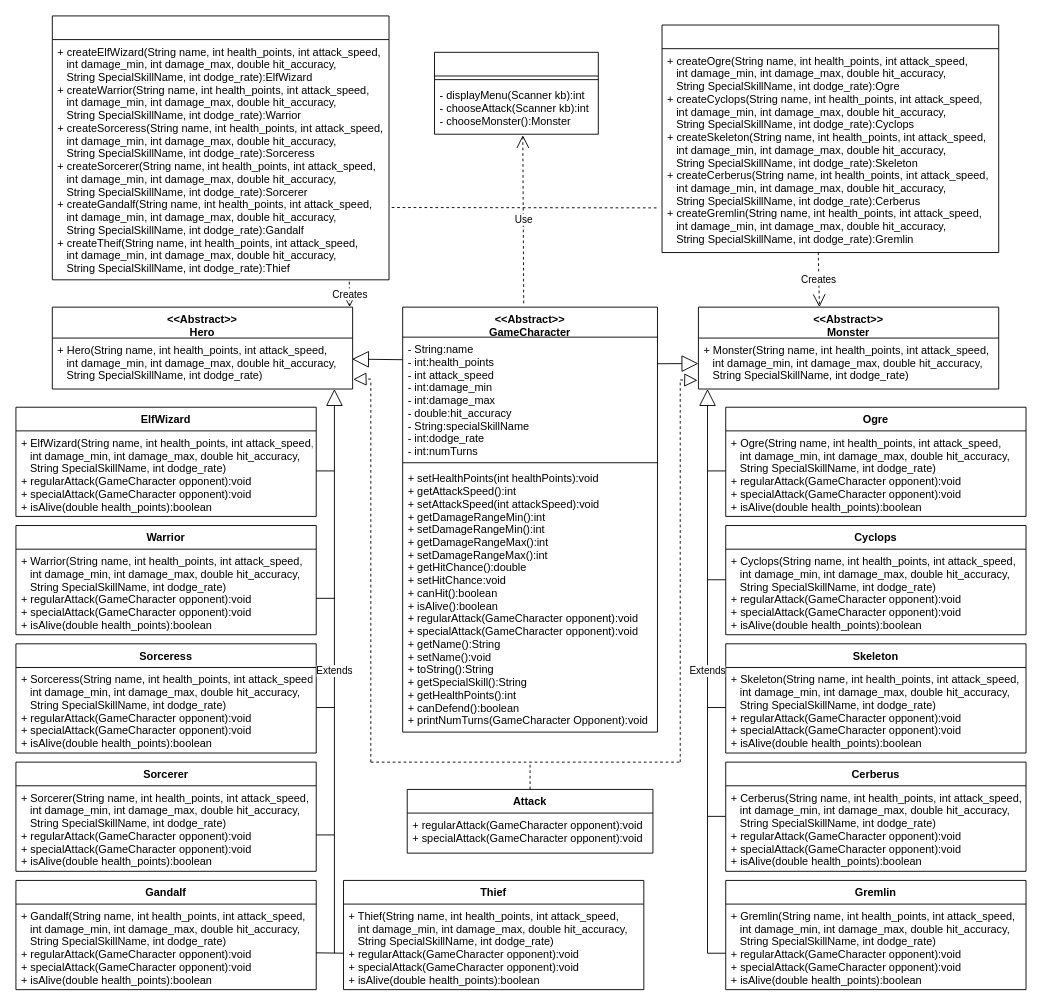
The diagram is 1042 pixels wide and 1008 high, and some of its shapes have lost their labels. The shapes that lost their labels are listed below. From the top down, each one's box as (x1, y1, x2, y2) in pixels, then its label:
(434, 51, 598, 134): DungeonAdventureDriver
(51, 15, 389, 280): HeroFactory
(661, 24, 999, 253): MonsterFactory
